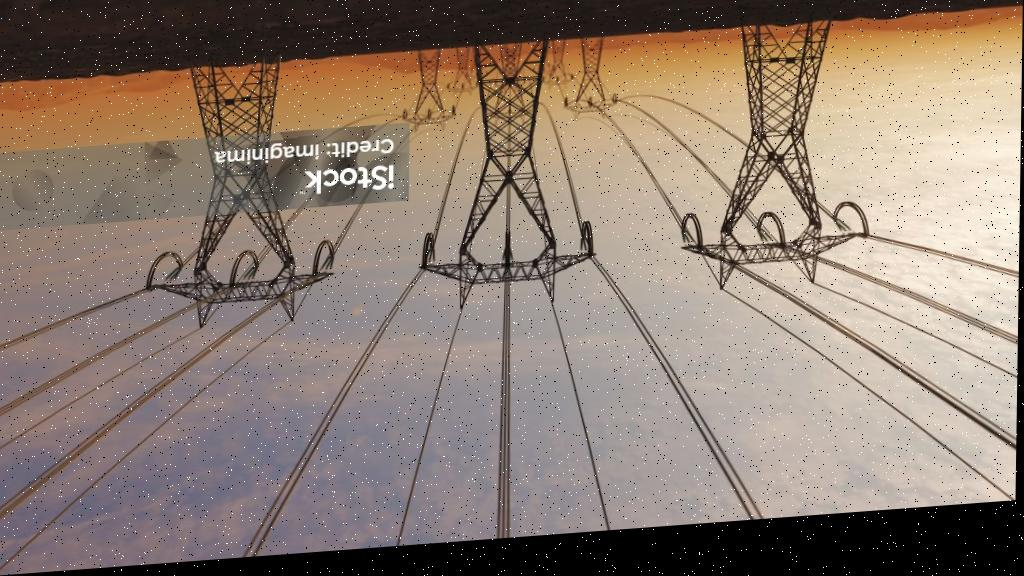tower: (672, 15, 884, 308), (139, 56, 344, 337), (417, 43, 600, 316)
